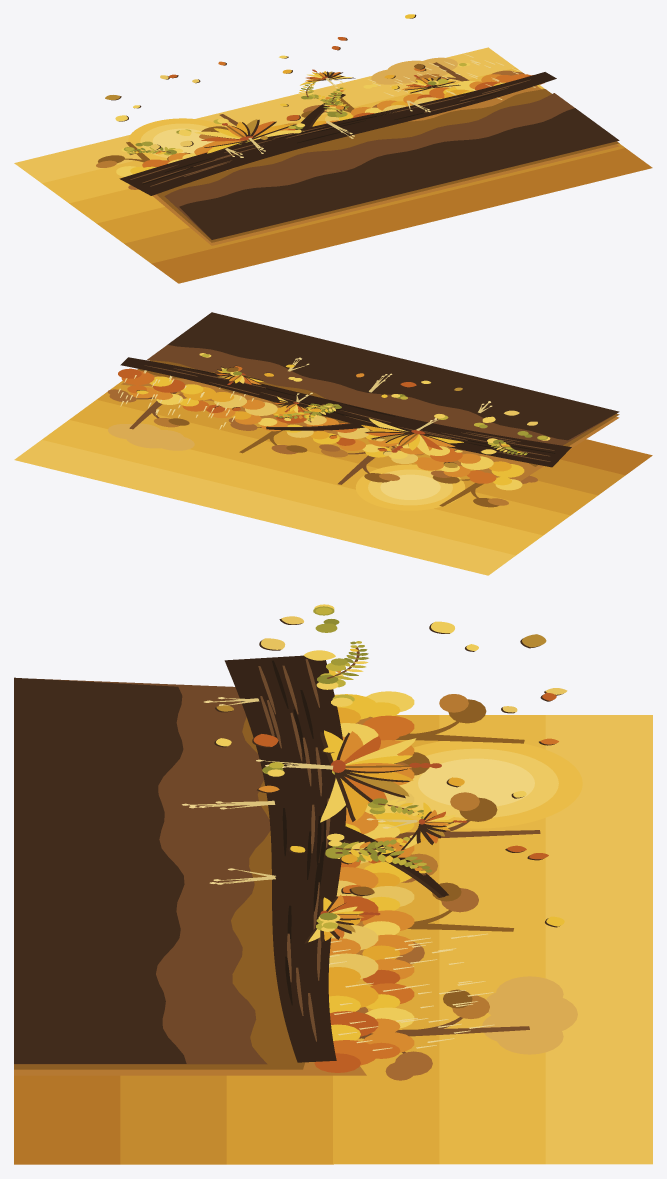
File: epiphytic-canopy.glb
The picture shows the model from 3 angles, top to bottom: view 1: azimuth 30°, elevation 25°; view 2: azimuth 150°, elevation 25°; view 3: azimuth 270°, elevation 25°; orthographic projection. The views are drawn at different scales.
Visible parts, largest first — view 1: hill_fore, sky_0, hill_near, sky_5, main_branch, hill_mid, sky_1, sky_4, hill_far, sky_3, sky_2, sun_2 (+2 smaller); view 2: hill_fore, sky_5, sky_4, sky_3, hill_near, main_branch, sky_2, sky_1, sky_0, hill_far, sun_0, sun_2 (+3 smaller); view 3: hill_fore, sky_5, sky_4, hill_near, main_branch, sky_3, sky_1, sky_2, sky_0, hill_mid, sun_0, sun_2 (+9 smaller).
Boxes of the visible parts, x1,y1,x2,y2 form: hill_fore: [179, 108, 619, 239]; sky_0: [151, 148, 652, 283]; hill_near: [164, 93, 606, 239]; sky_5: [14, 47, 515, 183]; main_branch: [119, 72, 556, 195]; hill_mid: [156, 89, 619, 242]; sky_1: [124, 143, 624, 263]; sky_4: [42, 67, 542, 203]; hill_far: [152, 85, 619, 245]; sky_3: [69, 87, 544, 223]; sky_2: [96, 207, 189, 243]; sun_2: [152, 128, 212, 153]; hill_fore: [167, 312, 619, 440]; sky_5: [14, 440, 515, 575]; sky_4: [42, 420, 542, 555]; sky_3: [69, 399, 570, 535]; hill_near: [147, 345, 616, 445]; main_branch: [120, 357, 571, 467]; sky_2: [97, 380, 597, 515]; sky_1: [137, 369, 625, 495]; sky_0: [560, 439, 652, 475]; hill_far: [121, 370, 619, 481]; sun_0: [355, 464, 465, 510]; sun_2: [380, 474, 440, 499]; hill_fore: [14, 677, 186, 1063]; sky_5: [545, 715, 652, 1164]; sky_4: [439, 715, 545, 1164]; hill_near: [14, 678, 270, 1064]; main_branch: [224, 655, 346, 1062]; sky_3: [333, 715, 439, 1164]; sky_1: [120, 1075, 226, 1164]; sky_2: [226, 1075, 333, 1164]; sky_0: [14, 1075, 120, 1164]; hill_mid: [14, 717, 304, 1069]; sun_0: [396, 741, 582, 828]; sun_2: [418, 758, 534, 806].
Bounding box in the file's own units: 20 × 3.02 × 12.02.
